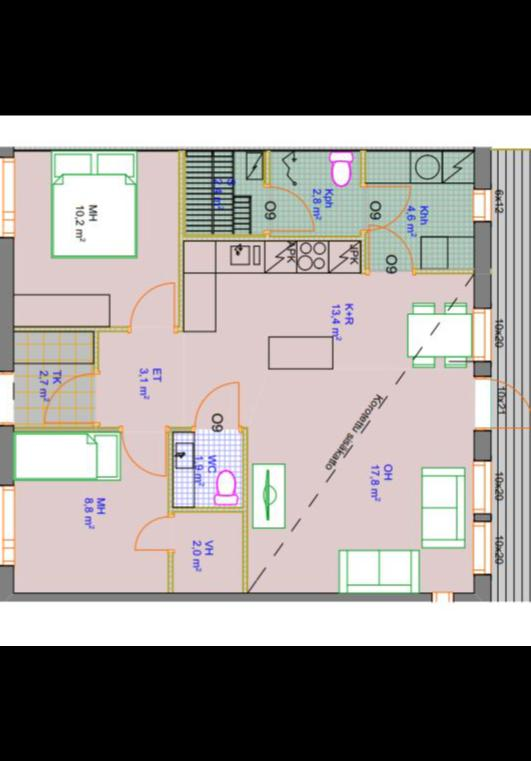door: (41, 366, 103, 430), (472, 374, 531, 430), (126, 278, 177, 338), (360, 182, 414, 236), (118, 425, 171, 477), (366, 224, 417, 276), (264, 180, 312, 232), (195, 380, 242, 431), (130, 513, 178, 557), (0, 370, 17, 430)
window: (470, 515, 494, 583), (472, 454, 496, 520), (0, 151, 17, 243), (472, 300, 494, 368), (0, 482, 15, 572), (470, 183, 494, 226), (428, 590, 458, 606)
